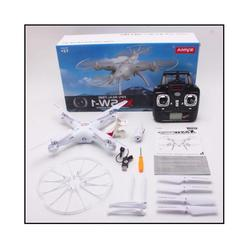drone: (75, 45, 181, 96), (50, 98, 129, 152)
